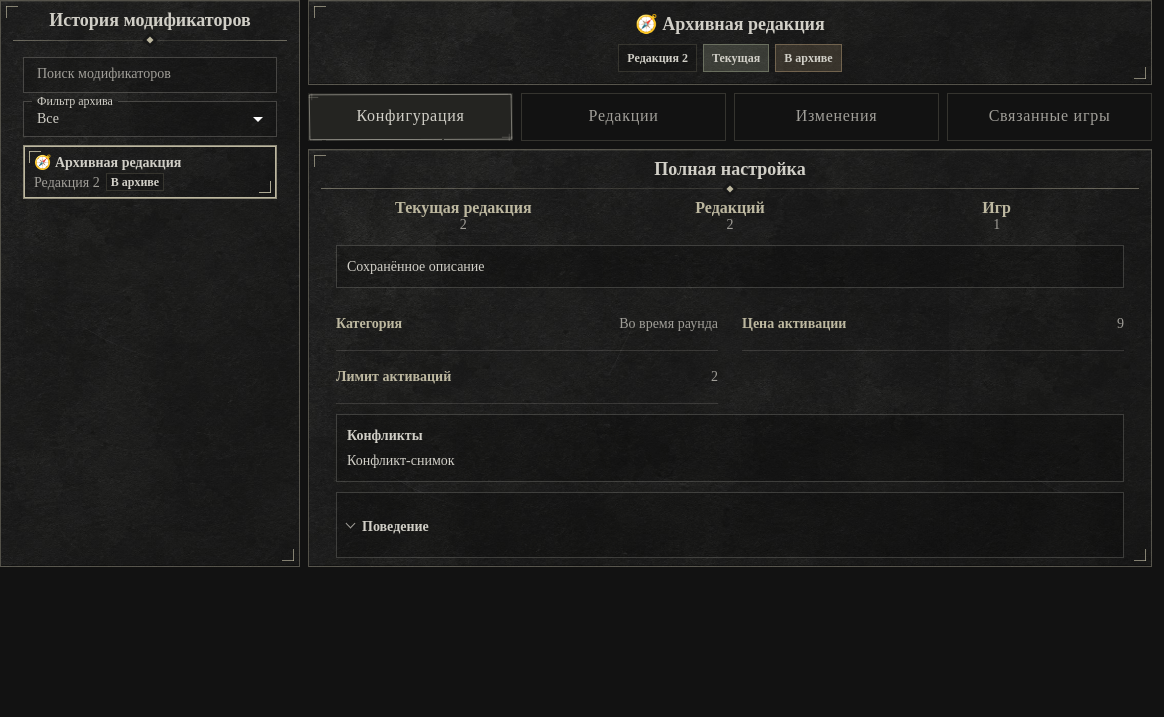
ModifierHistoryPage › renders archived cascade detail, semantic diff and related game without mutation controls
Expected: the text "Сохранённое описание" is shown, x1=347 y1=259 x2=485 y2=274
Click the tab "Изменения" at (836, 116), box x1=734 y1=92 x2=939 y2=140
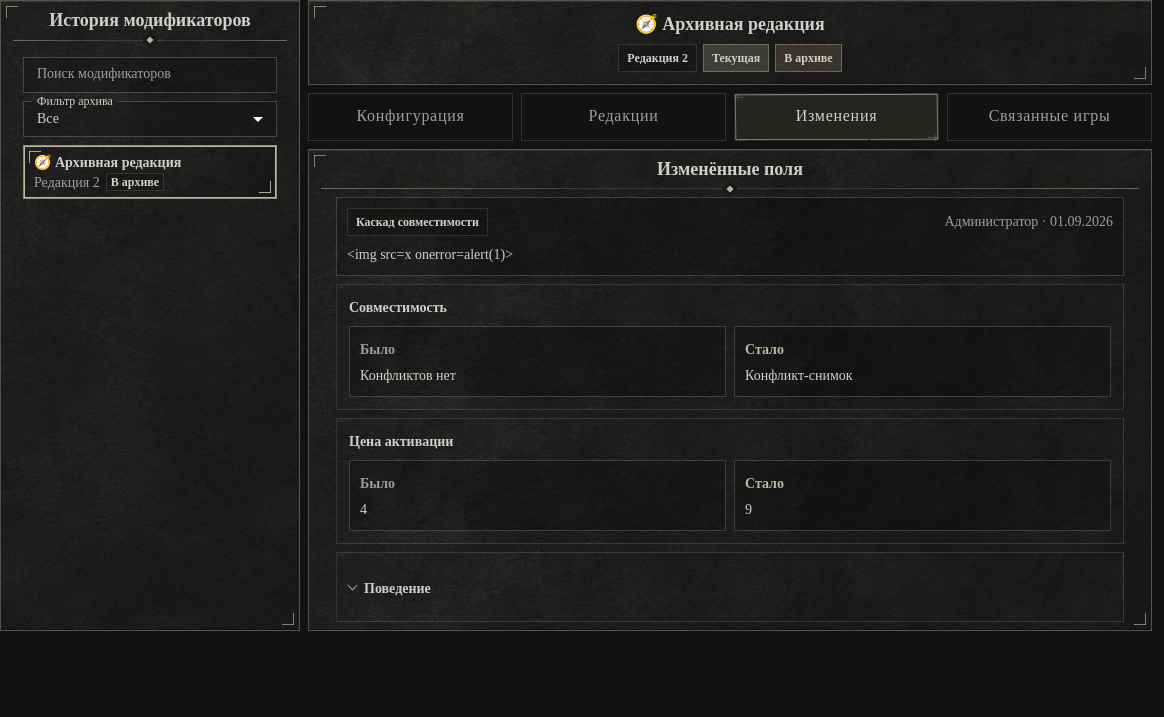
Result: the text "Каскад совместимости" is shown at x1=356 y1=215 x2=479 y2=229
Result: the heading "Совместимость" is shown at x1=349 y1=300 x2=447 y2=315
Result: the text "Конфликтов нет" is shown at x1=360 y1=368 x2=456 y2=383
Click the button "Поведение" at (389, 588), box x1=348 y1=581 x2=431 y2=596
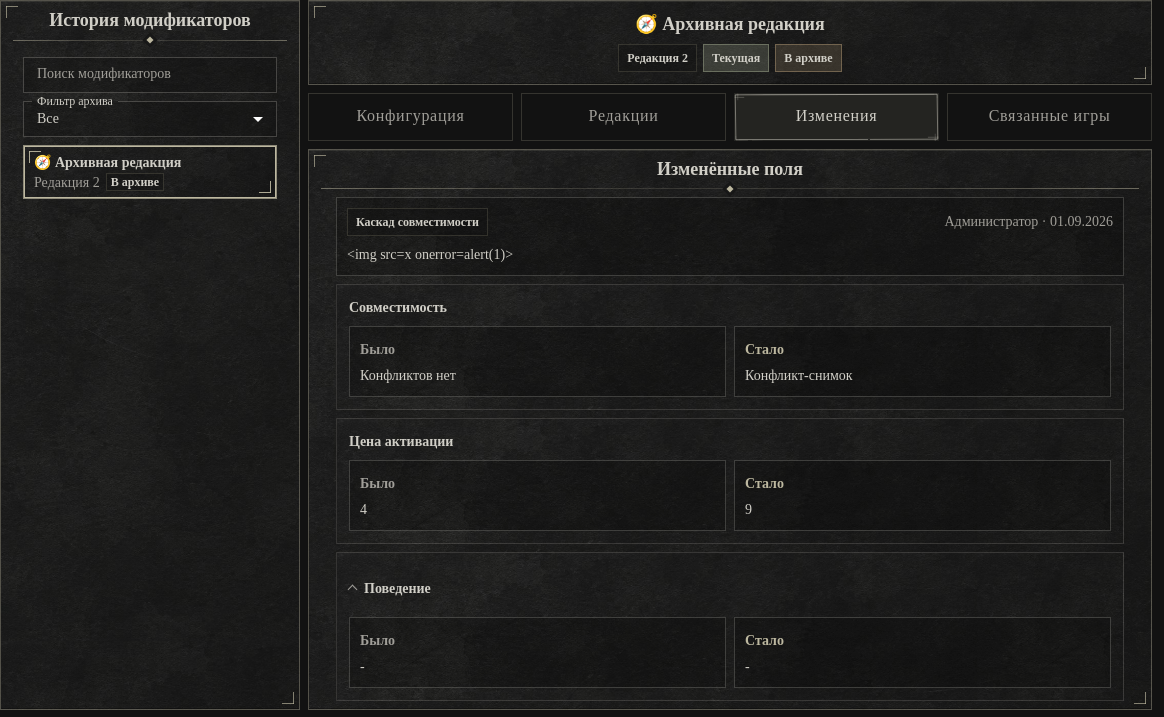
Result: the text "<img src=x onerror=alert(1)>" is shown at x1=347 y1=247 x2=513 y2=262
Click the tab "Конфигурация" at (410, 116), box x1=308 y1=92 x2=513 y2=140
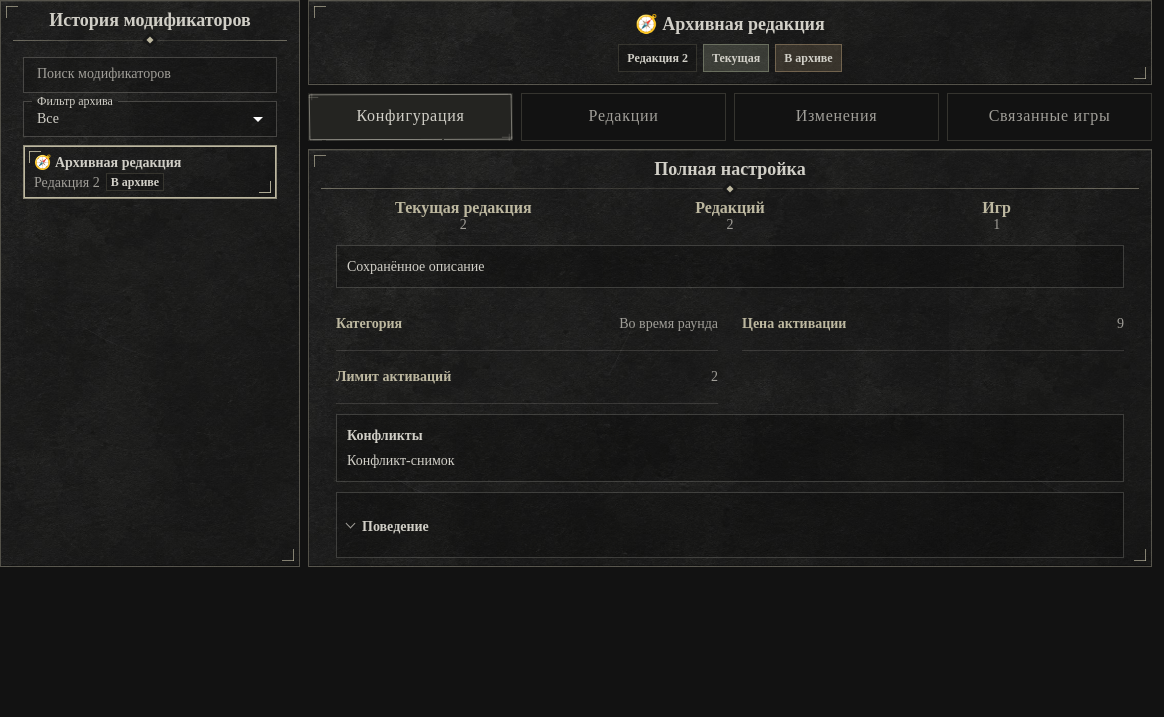
Expected: the text "Конфликт-снимок" is shown, x1=347 y1=453 x2=455 y2=468
Click the button "Поведение" at (387, 526), box x1=346 y1=519 x2=429 y2=534
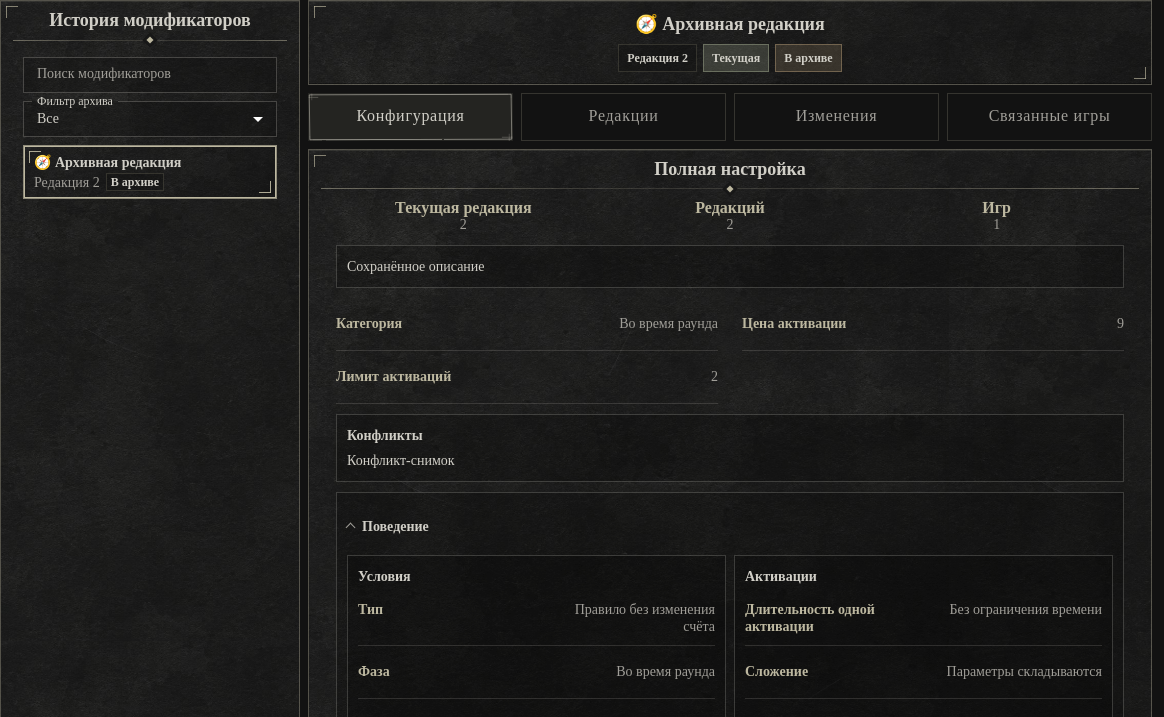
Click the tab "Связанные игры" at (1050, 116), box x1=947 y1=92 x2=1152 y2=140
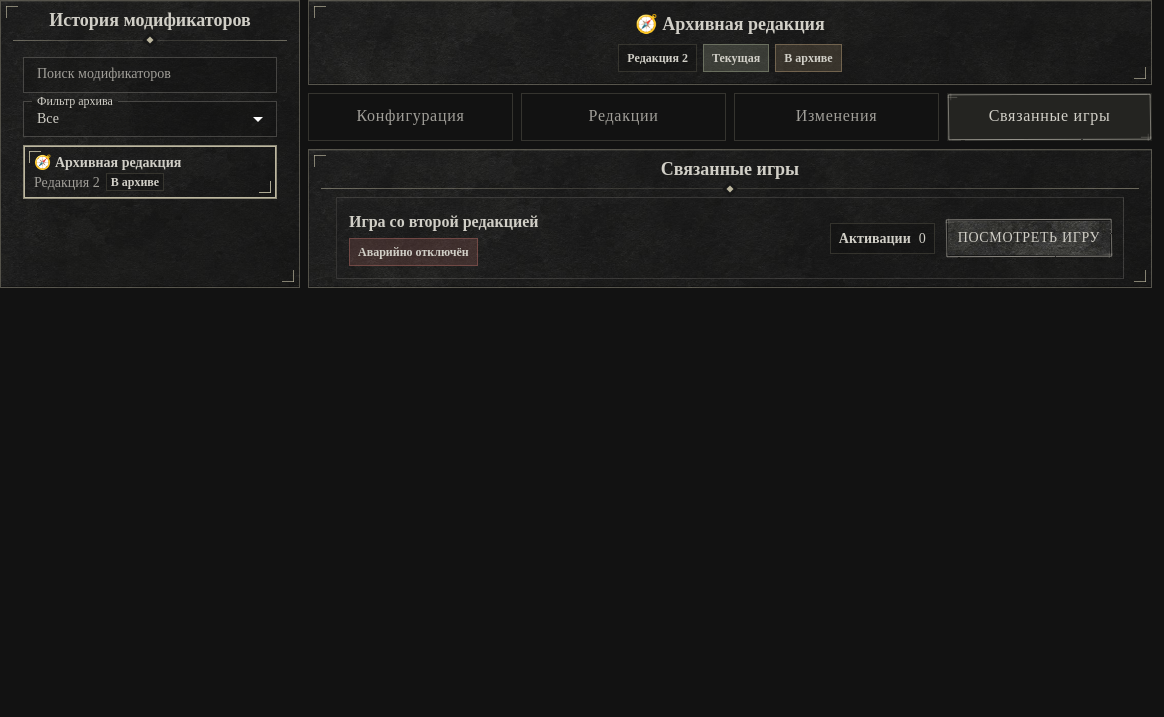
Result: the text "Аварийно отключён" is shown at x1=358 y1=245 x2=469 y2=259
